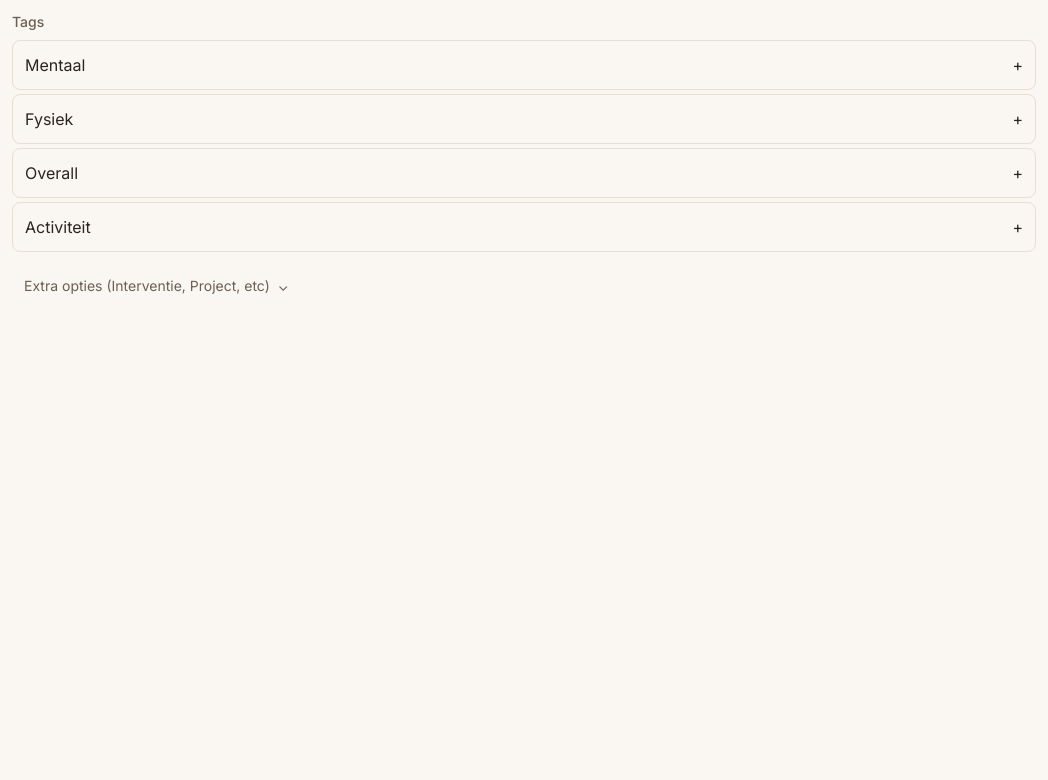
Test case: <TagCategoryList /> › multiple category headers can be expanded simultaneously across primary/extra boundary
The image size is (1048, 780).
Click the button "mentaal +". click: (55, 65)
box: [12,40,1036,90]
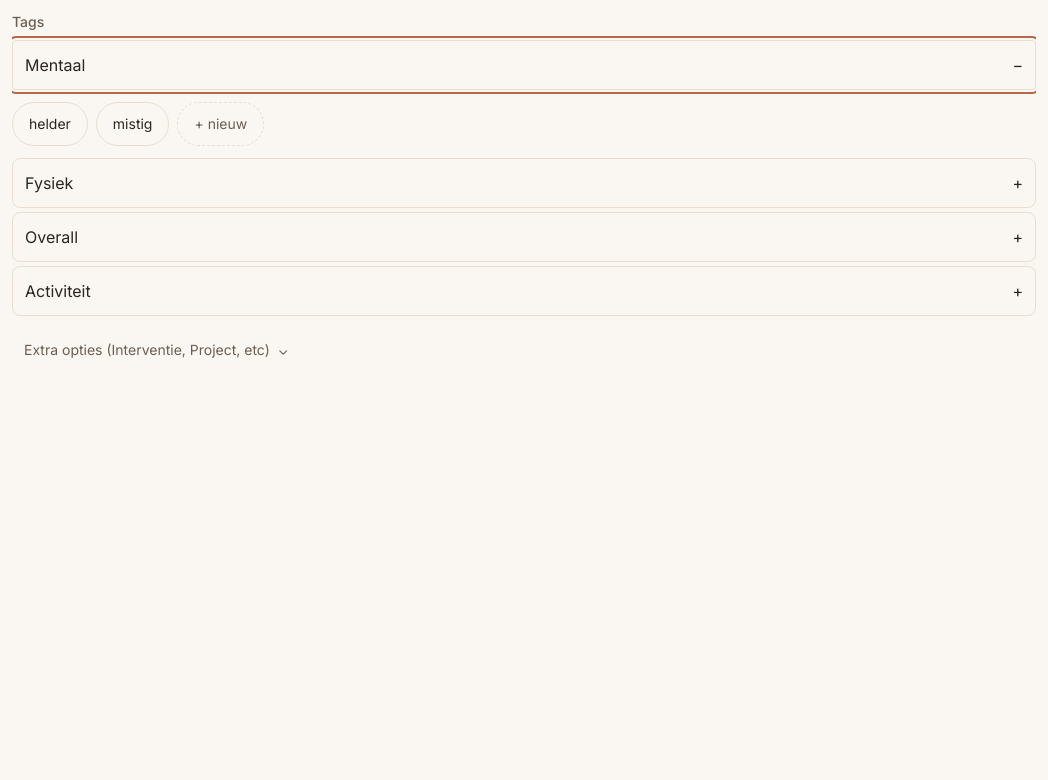
Click the button "Extra opties (Interventie, Project, etc) ⌄". click: (156, 350)
box: [12,328,301,372]
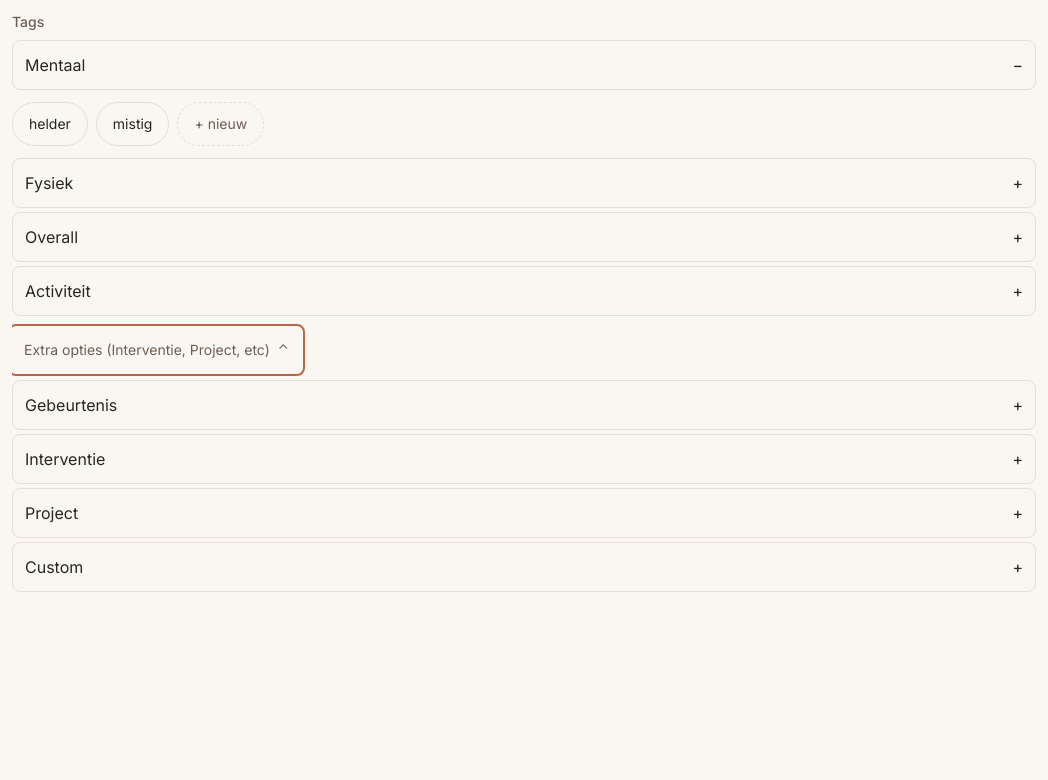
Click the button "interventie +". click: (65, 459)
box: [12,434,1036,484]
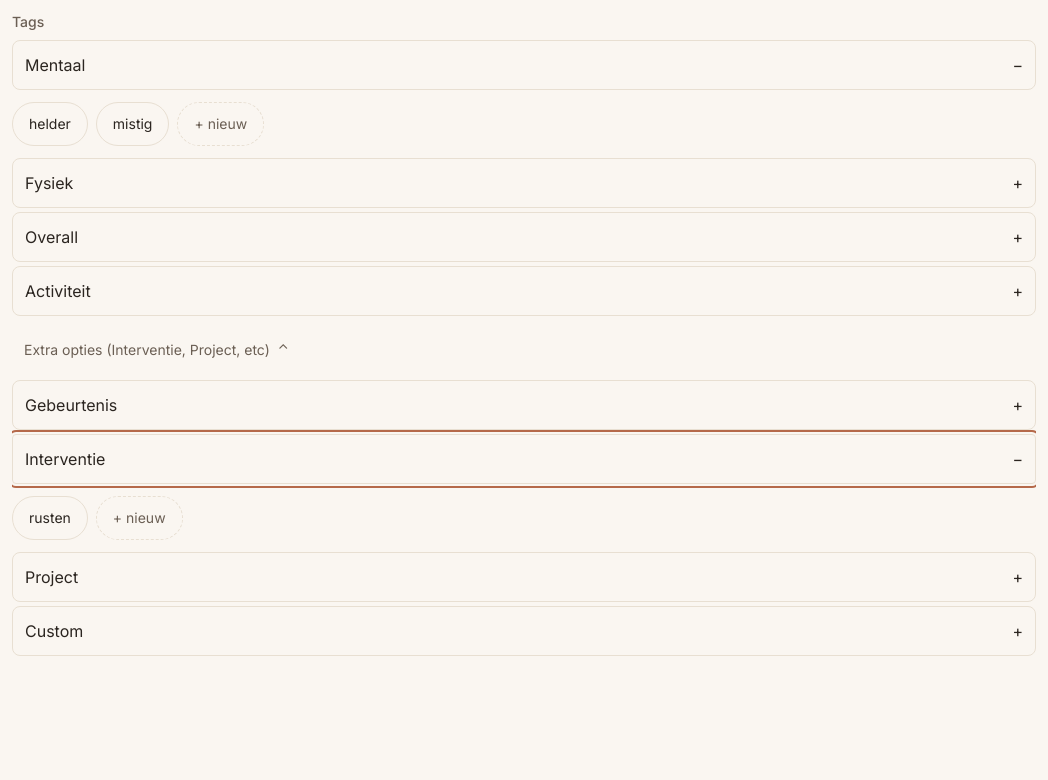
Now the button "helder" is shown, box [12,102,88,146]
Now the button "rusten" is shown, box [12,496,88,540]
